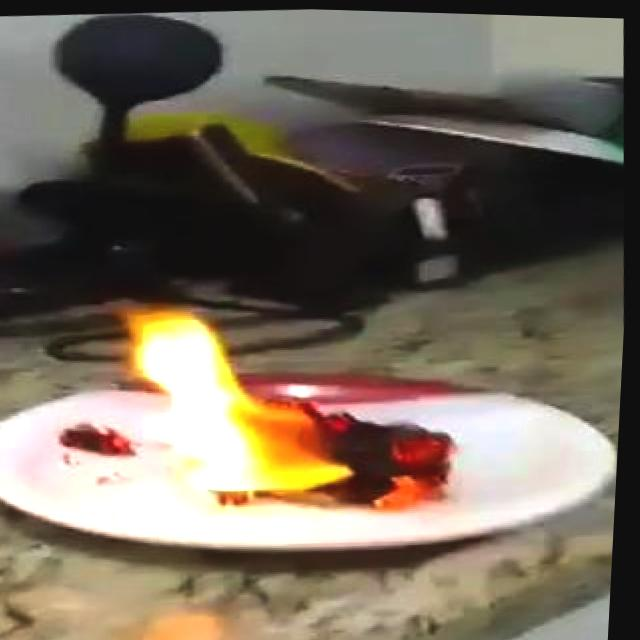fire: (104, 286, 473, 530)
